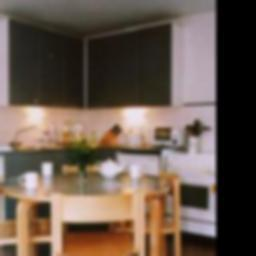Electrodomestico: (167, 155, 214, 237)
